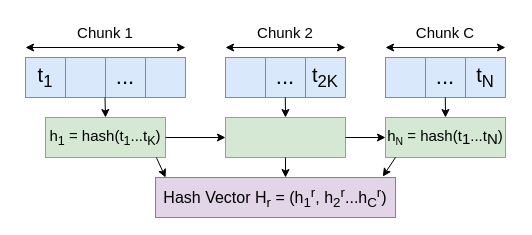
Some shapes in this 532 by 235 pixel diagram are drawn without their labels. The shapes that lost their labels are listed below. From the top down, each one's centre as x and y in pixels, then its label:
At [85,77]: "t 2".
At [165,77]: "t K".
At [245,77]: "t K+1".
At [405,77]: "t C(K-1)".
At [285,137]: "h 2 = hash(t 1 ...t 2K )".
